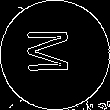M_E: (30, 32, 80, 79)
